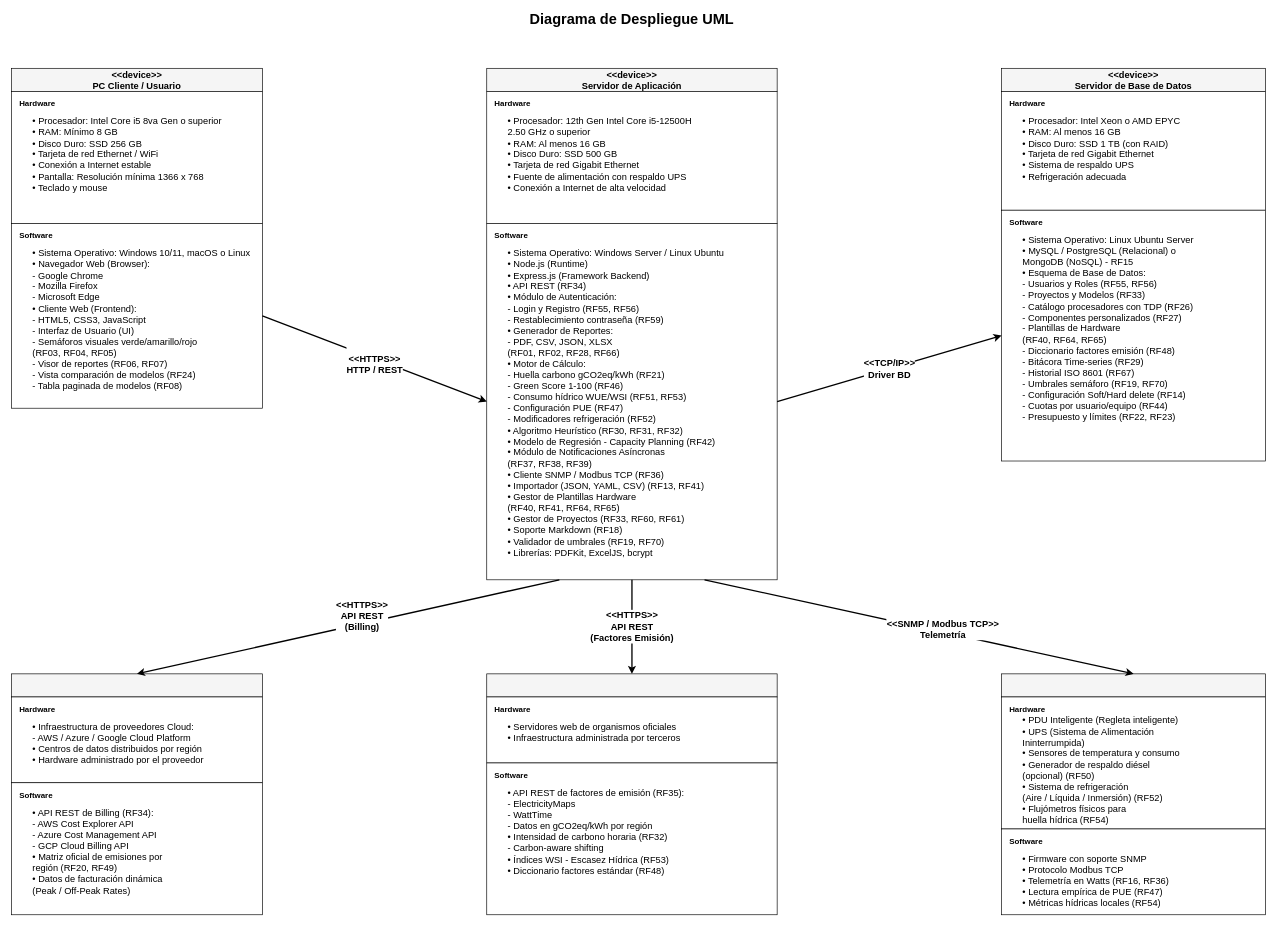
Some shapes in this 1277 by 927 pixel diagram are drawn without their labels. Each missing label, with the centre of its shape:
<<device>> Fuentes Oficiales de Emisión: [631,685]
<<device>> Infraestructura Física On-Premise: [1133,685]
<<device>> Servidores Cloud (Externos): [136,685]
